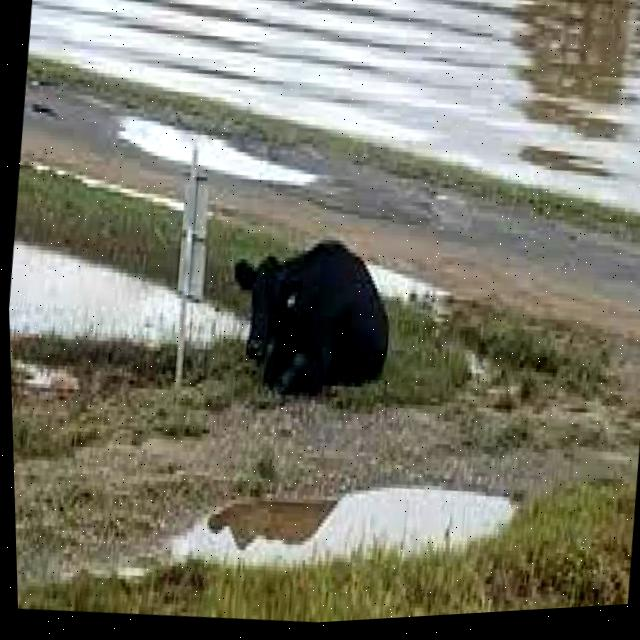cow: (217, 224, 425, 420)
